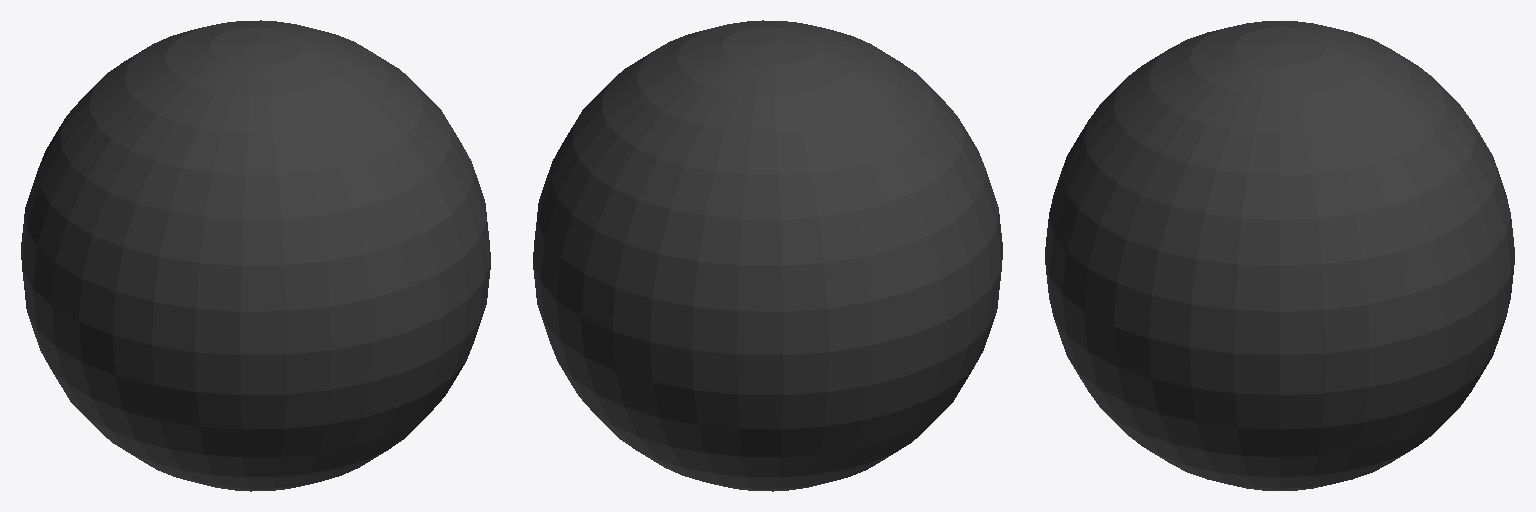
robot.urdf — sphere:
<?xml version='1.0' encoding='UTF-8'?>
<robot name="sphere">
  <link name="base_link">
    <inertial>
      <origin xyz="0.0 0.0 0.0" rpy="0.0 -0.0 0.0"/>
      <mass value="1.0"/>
      <inertia ixx="1.0" ixy="0.0" ixz="0.0" iyy="1.0" iyz="0.0" izz="1.0"/>
    </inertial>
    <visual name="base_link_visual">
      <geometry>
        <sphere radius="0.15"/>
      </geometry>
      <material name="base_link_color">
        <color rgba="0.3 0.3 0.3 1"/>
      </material>
      <origin xyz="0 0 0" rpy="0 0 0"/>
    </visual>
    <collision name="base_link_collision">
      <geometry>
        <sphere radius="0.15"/>
      </geometry>
      <origin xyz="0 0 0" rpy="0 0 0"/>
    </collision>
  </link>
</robot>

--- What the picture shows (computed from the rendered views, not written in the file) ---
Views: 3 orthographic renders of the robot side by side, from view 1: azimuth 30°, elevation 25°; view 2: azimuth 150°, elevation 25°; view 3: azimuth 270°, elevation 25°.
Model sphere with 1 links and 0 joints (none), rooted at base_link, posed every joint at zero.
Visible links, largest first — view 1: base_link; view 2: base_link; view 3: base_link.
Link boxes in pixels (box(x1,y1,x2,y2)): base_link: box(21, 20, 490, 491); base_link: box(533, 20, 1002, 491); base_link: box(1045, 21, 1514, 490).
Size in the robot's own frame: 0.3 by 0.3 by 0.3 metres.
Geometry: primitives only (box / cylinder / sphere), no mesh files.